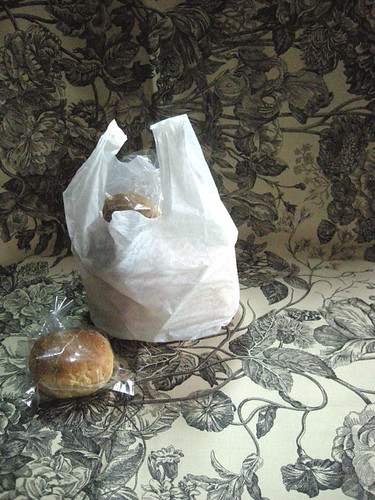plastic bag: (63, 113, 241, 340), (19, 294, 135, 407)
